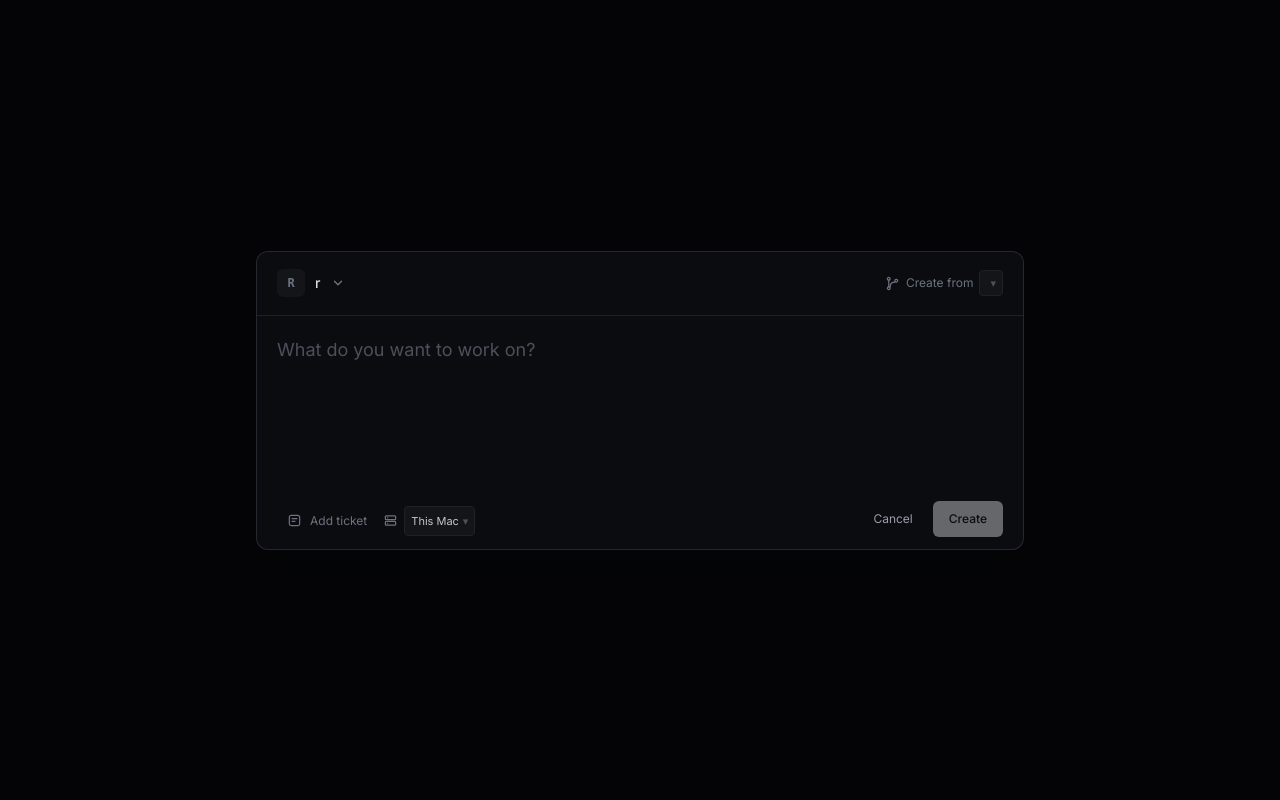
it: NewWorktreeDialog › disables remote runners when the selected repository has no clone URL
Click the button with aria-label "Where" at (440, 520), box [404, 506, 475, 536]
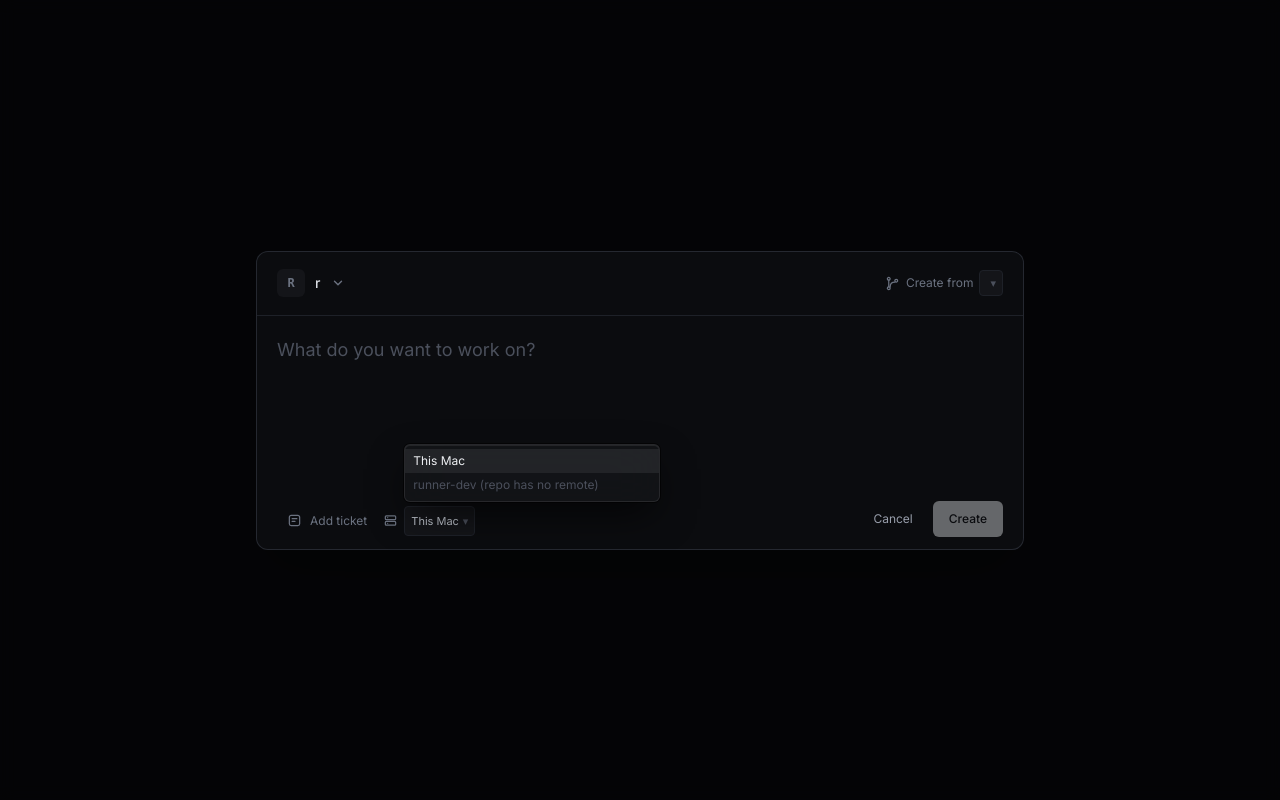
Expected: the button "runner-dev (repo has no remote)" is disabled, [405, 472, 659, 496]
